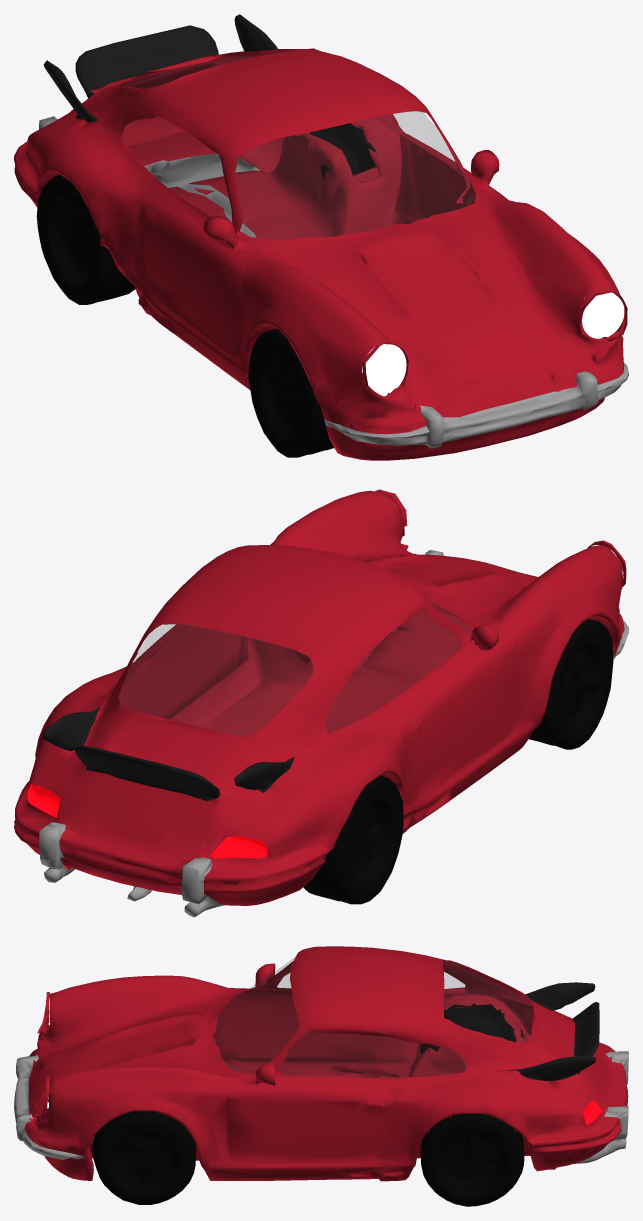
Rendered from car_model.glb.
3 renders of one model, top to bottom at view 1: azimuth 30°, elevation 25°; view 2: azimuth 150°, elevation 25°; view 3: azimuth 270°, elevation 25°, orthographic. The views are drawn at different scales.
Parts seen in each view (by area): view 1: body, windows_1, wheels, metal_elements, spoiler, frontligts; view 2: body, windows_1, wheels, spoiler, metal_elements, backlamps; view 3: body, windows_1, wheels, spoiler, metal_elements.
Part boxes in pixels (x1,y1,x2,y2): body: (14,48,627,460); windows_1: (122,52,474,239); wheels: (36,123,377,457); metal_elements: (39,116,628,448); spoiler: (43,14,277,122); frontligts: (362,292,624,396); body: (14,489,626,905); windows_1: (119,598,470,736); wheels: (303,619,613,904); spoiler: (43,706,294,801); metal_elements: (39,550,628,917); backlamps: (27,784,267,858); body: (24,946,628,1181); windows_1: (213,957,533,1078); wheels: (92,1003,524,1206); spoiler: (509,982,599,1080); metal_elements: (14,1051,628,1163).
Size of the model in its own units: 2.72 by 1.96 by 6.
